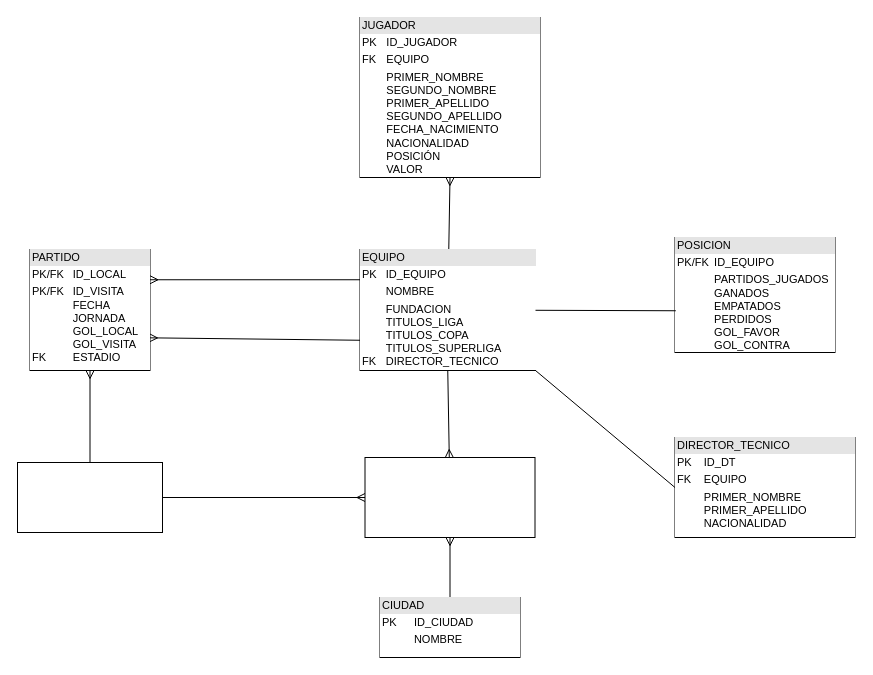
The diagram is 873 pixels wide and 675 high, and some of its shapes have lost their labels. The shapes that lost their labels are listed below. From the top down, each one's centre as x and y in pixels, then its label:
(x=89, y=497): ESTADIO PK ID_ESTADIO NOMBRE CAPACIDAD
(x=449, y=497): EQU-CIU-EST PK/FK ID_EQUIPO PK/FK PK/FK ID_CIUDAD ID_ESTADIO
